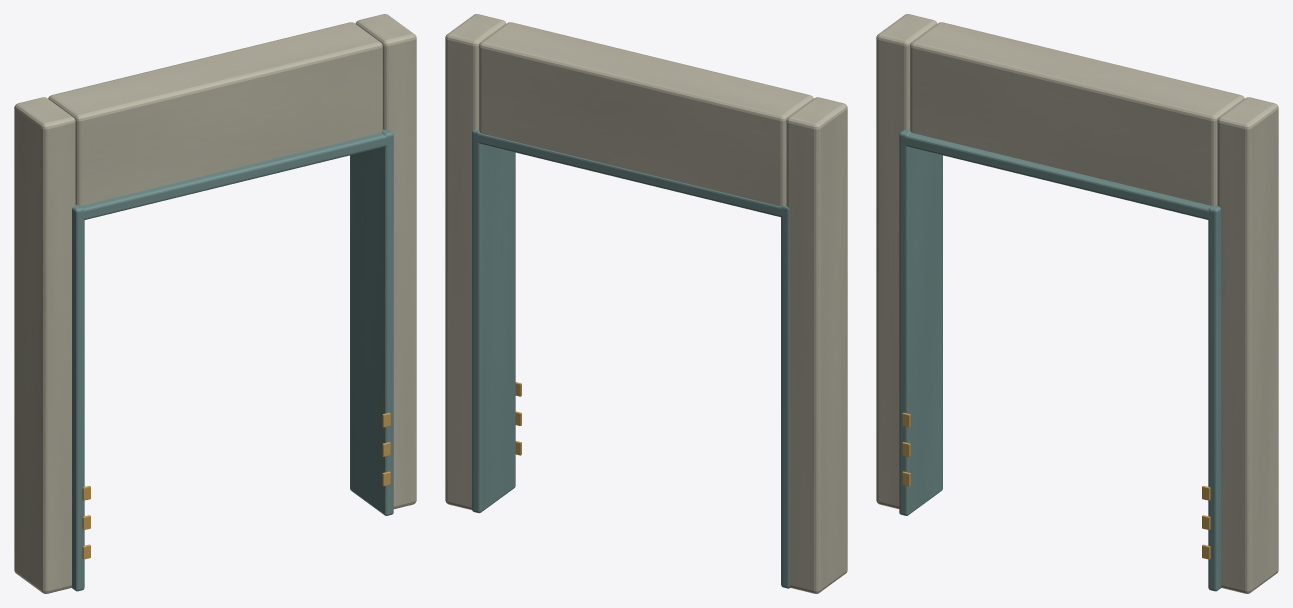
The model's file is Doorway_4m.glb.
3 views of the same model, side by side, from view 1: azimuth 30°, elevation 25°; view 2: azimuth 150°, elevation 25°; view 3: azimuth 330°, elevation 25° (orthographic).
Parts seen in each view (by area): view 1: Doorway_4m; view 2: Doorway_4m; view 3: Doorway_4m.
Part boxes in pixels (x1,y1,x2,y2): Doorway_4m: (14,14,416,593); Doorway_4m: (445,14,847,593); Doorway_4m: (876,14,1278,593).
Bounding box in the file's own units: 4 × 4.8 × 0.7025.
3 materials, 2 textured.
